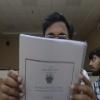notebook: (18, 33, 88, 99)
